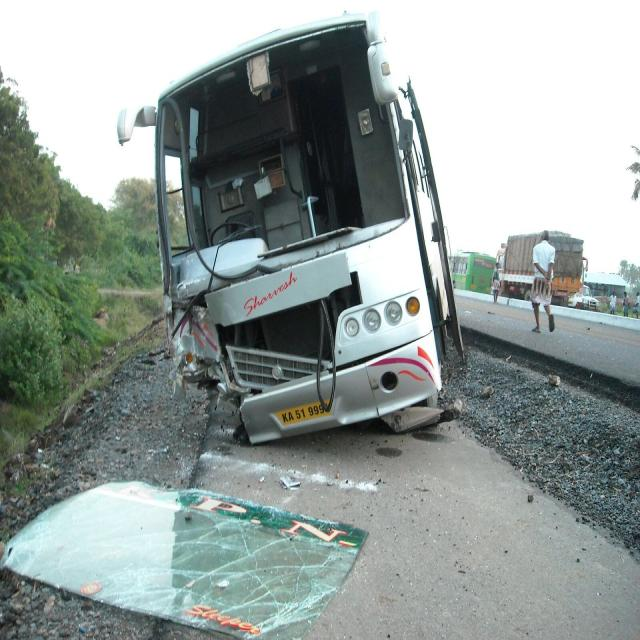accident: (118, 15, 462, 444)
bus: (450, 252, 495, 293)
truck: (496, 231, 584, 306)
